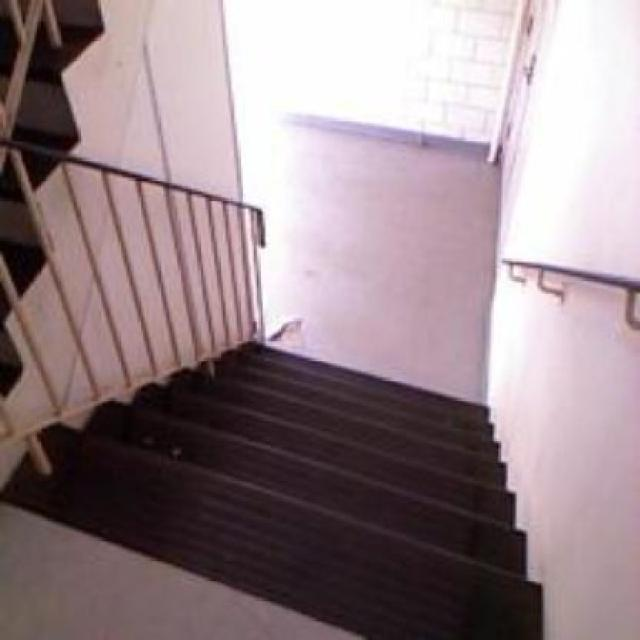stair: (58, 323, 570, 614)
